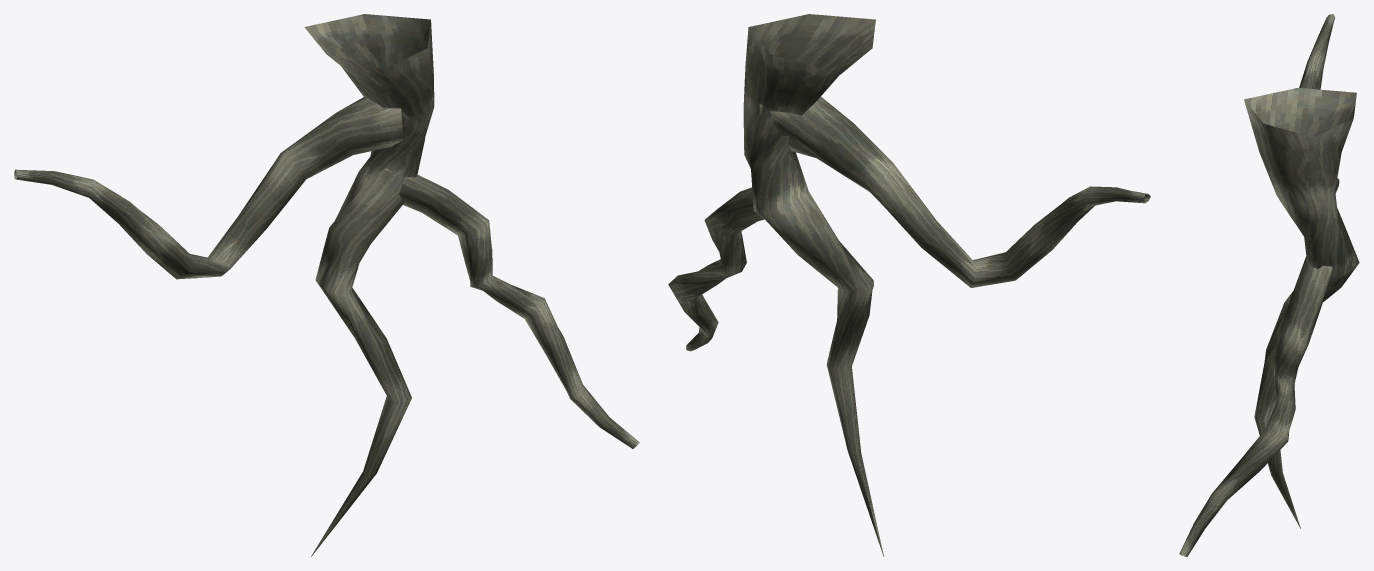
Rendered from INST_TROLLHOLE_ROOTB.obj.
3 views of the same model, side by side, from view 1: azimuth 30°, elevation 25°; view 2: azimuth 150°, elevation 25°; view 3: azimuth 270°, elevation 25° (orthographic). The views are drawn at different scales.
Visible parts, largest first — view 1: otMainB_Lod1_01; view 2: otMainB_Lod1_01; view 3: otMainB_Lod1_01.
Boxes of the visible parts, box(x1,y1,x2,y2) form: otMainB_Lod1_01: box(14, 14, 639, 556); otMainB_Lod1_01: box(668, 14, 1150, 556); otMainB_Lod1_01: box(1179, 14, 1359, 556).
Size of the model in its own units: 647 by 572 by 209.
